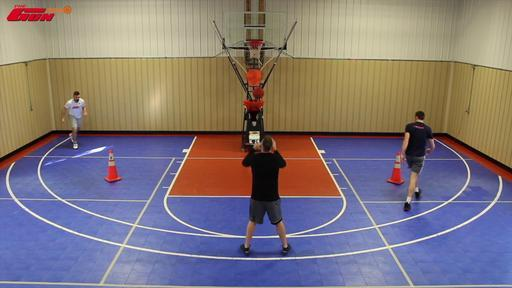ball: (252, 88, 264, 98)
human: (240, 138, 290, 258), (401, 110, 435, 212), (62, 91, 88, 150)
rim: (244, 38, 265, 60)
